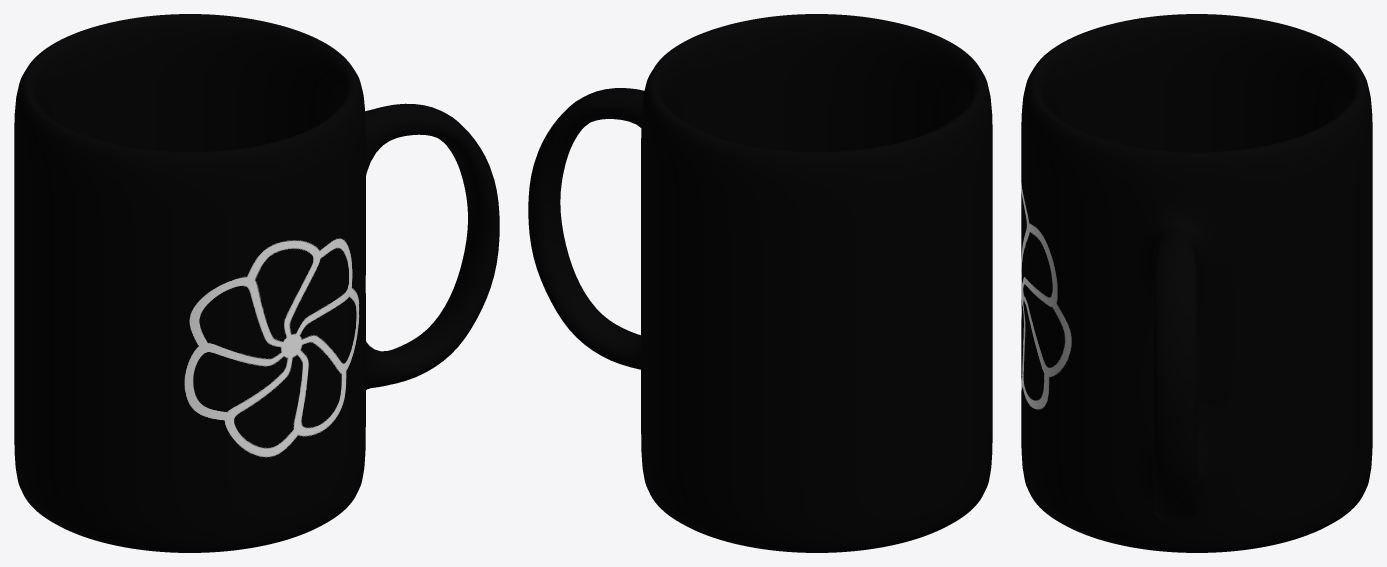
The model's file is mug.glb.
3 views of the same model, side by side, from view 1: azimuth 30°, elevation 25°; view 2: azimuth 150°, elevation 25°; view 3: azimuth 270°, elevation 25° (orthographic).
Visible parts, largest first — view 1: ´ackup wmods.001; view 2: ´ackup wmods.001; view 3: ´ackup wmods.001.
Boxes of the visible parts, x1,y1,x2,y2 form: ´ackup wmods.001: [14, 14, 499, 552]; ´ackup wmods.001: [528, 14, 992, 552]; ´ackup wmods.001: [1021, 14, 1372, 552].
Size of the model in its own units: 4.13 by 3.54 by 2.82.
1 material, 1 textured.
